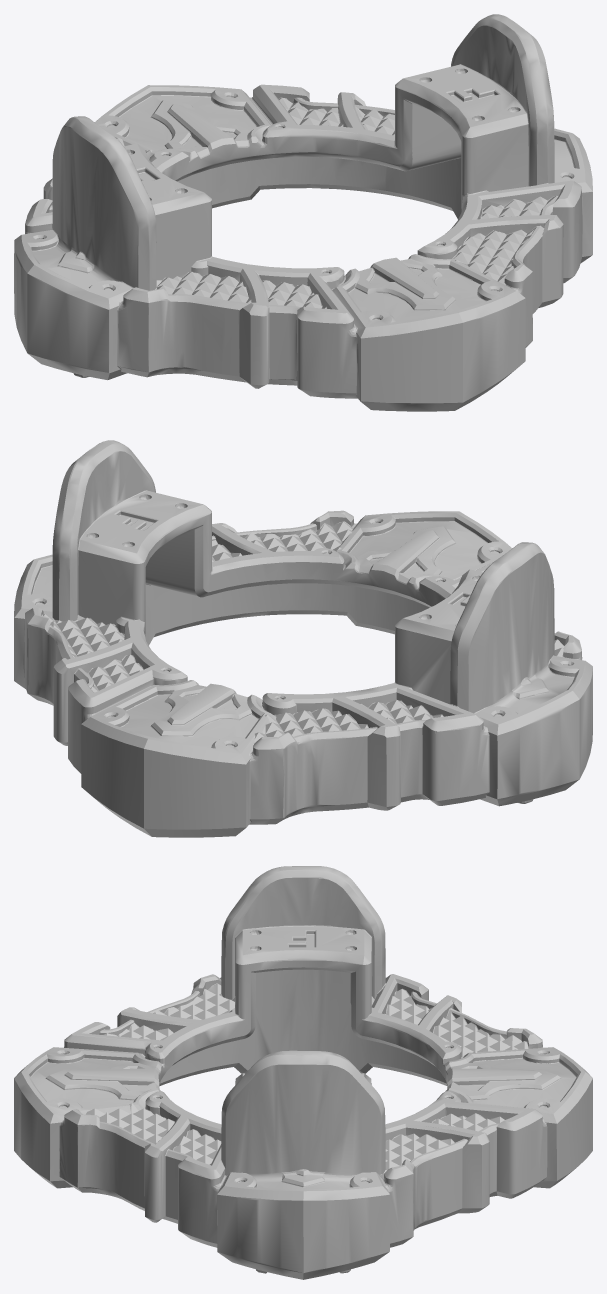
The model's file is Force.obj.
The picture shows the model from 3 angles, top to bottom: view 1: azimuth 30°, elevation 25°; view 2: azimuth 150°, elevation 25°; view 3: azimuth 270°, elevation 25°; orthographic projection. The views are drawn at different scales.
Visible parts, largest first — view 1: Mesh_0013out; view 2: Mesh_0013out; view 3: Mesh_0013out.
Boxes of the visible parts, <box> form: Mesh_0013out: <box>14,14,592,411</box>; Mesh_0013out: <box>14,440,592,837</box>; Mesh_0013out: <box>14,866,592,1279</box>.
Size of the model in its own units: 0.4 by 0.158 by 0.4.
1 material, 1 textured.
